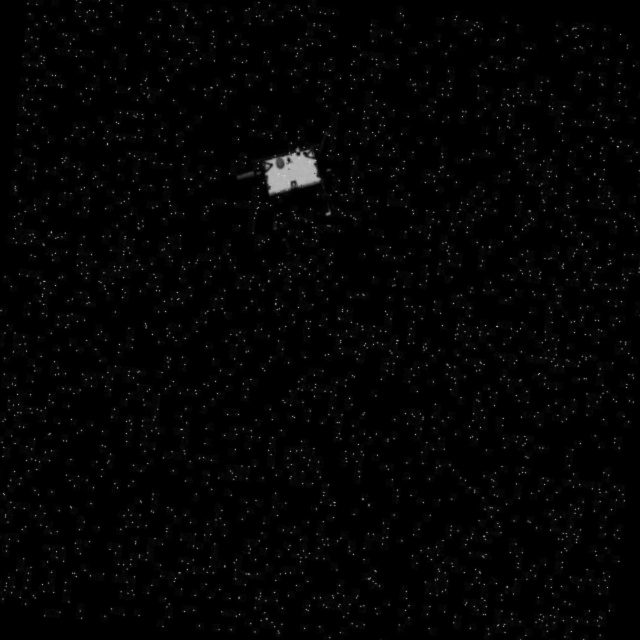satellite: (235, 142, 327, 204)
